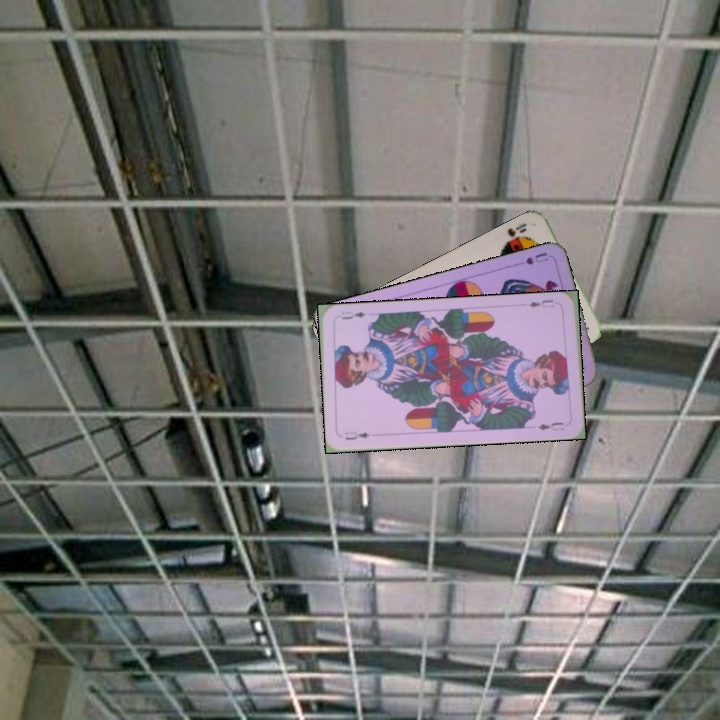EU: (341, 428, 372, 443), (524, 296, 556, 310)
SO: (503, 219, 529, 240)
SU: (510, 248, 550, 269)
